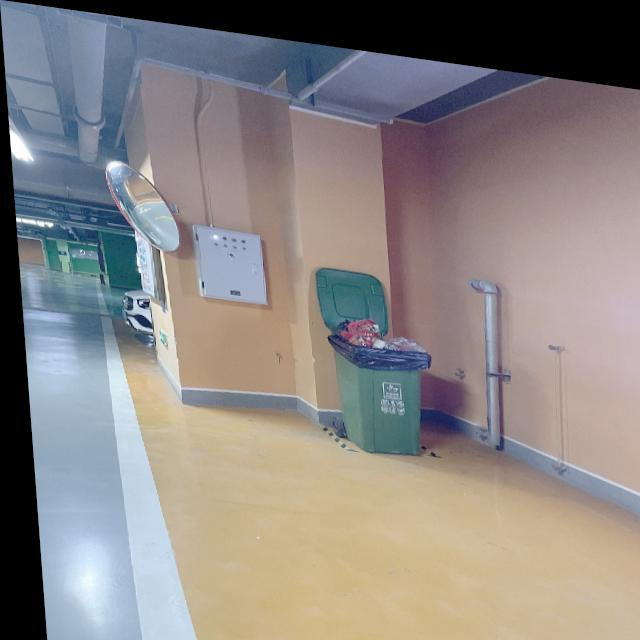overflow: (319, 302, 433, 450)
